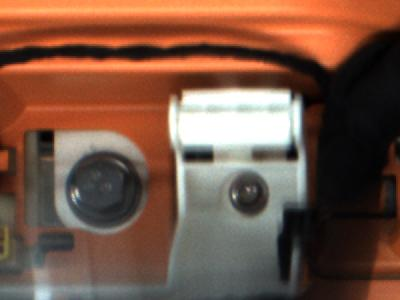nut_b: (61, 151, 148, 229)
